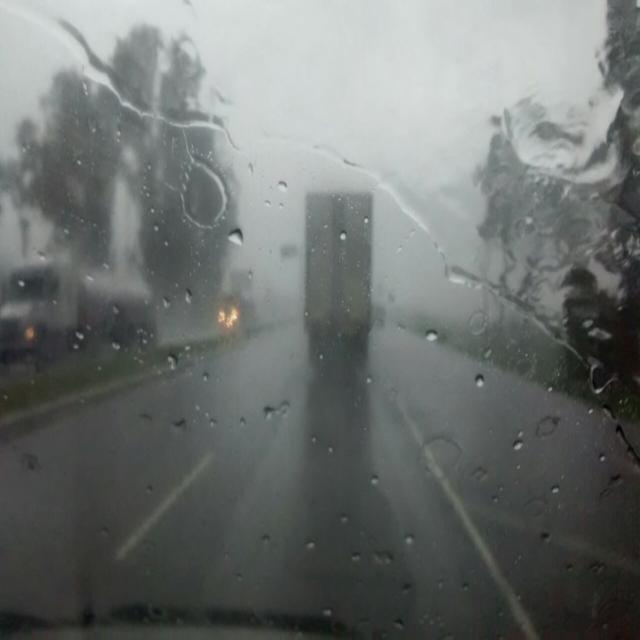bus: (2, 253, 158, 344), (304, 188, 370, 359)
